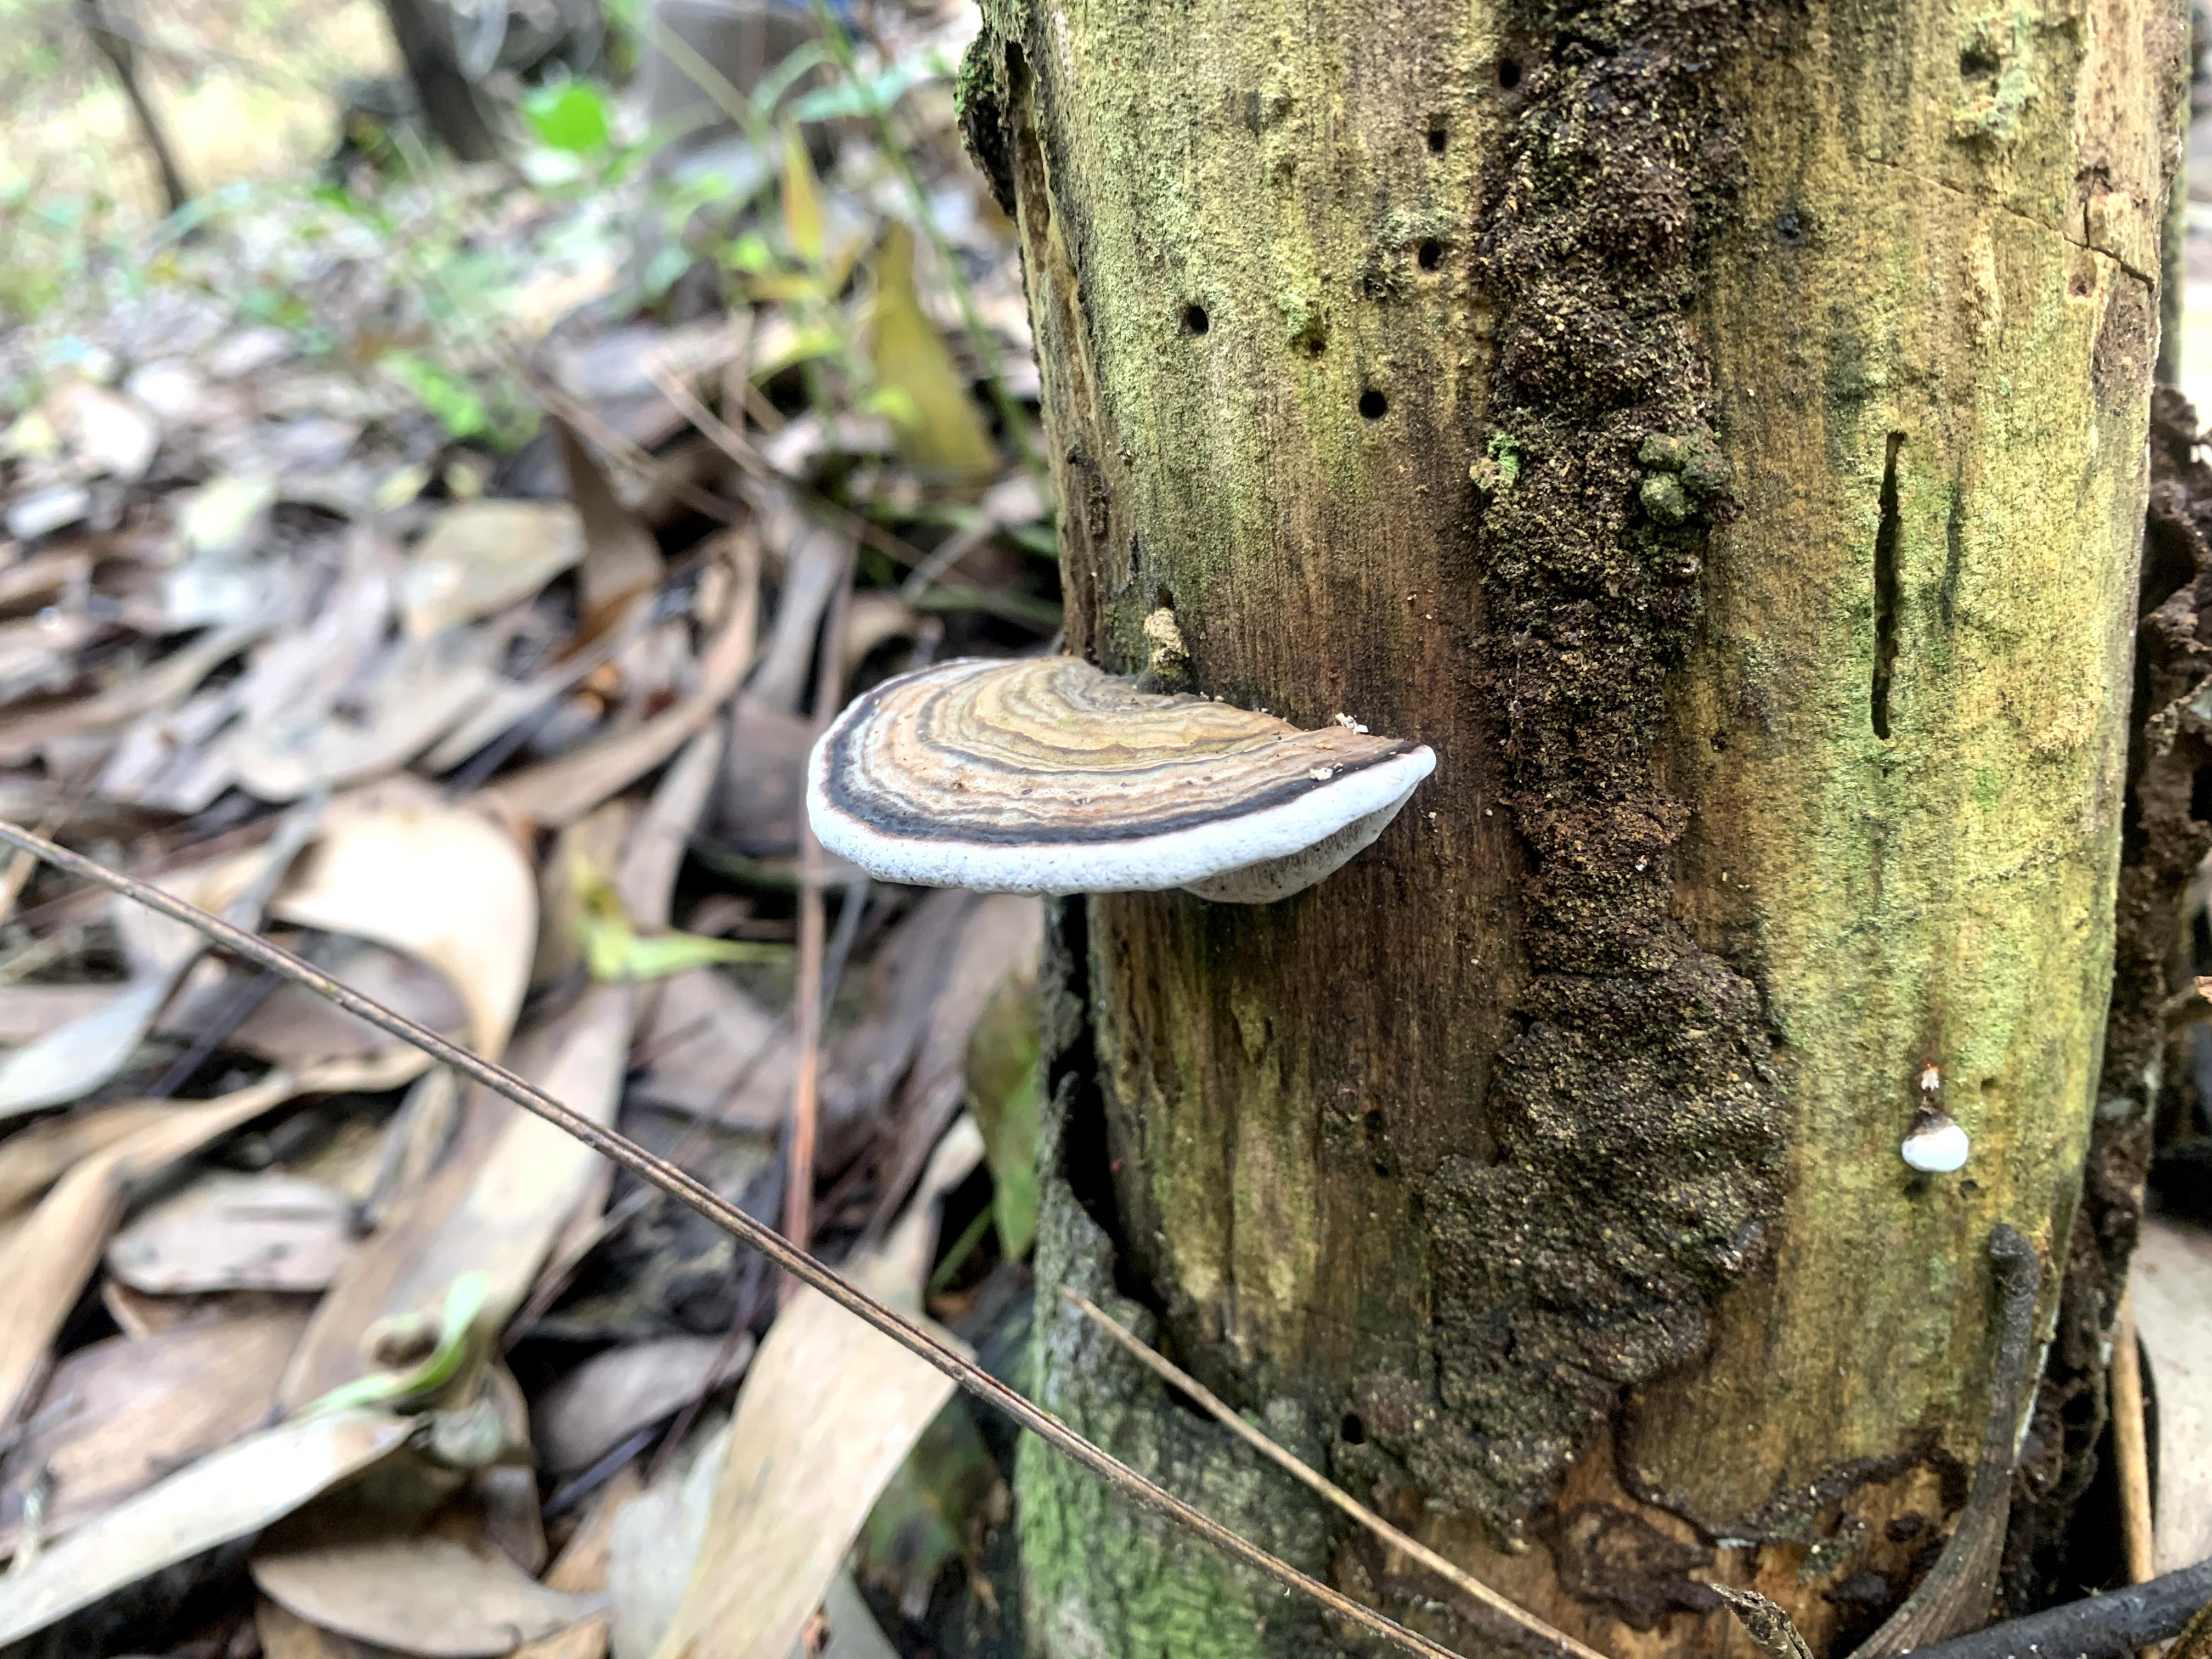Ganoderma - Fruit Body: (794, 606, 1479, 976)
